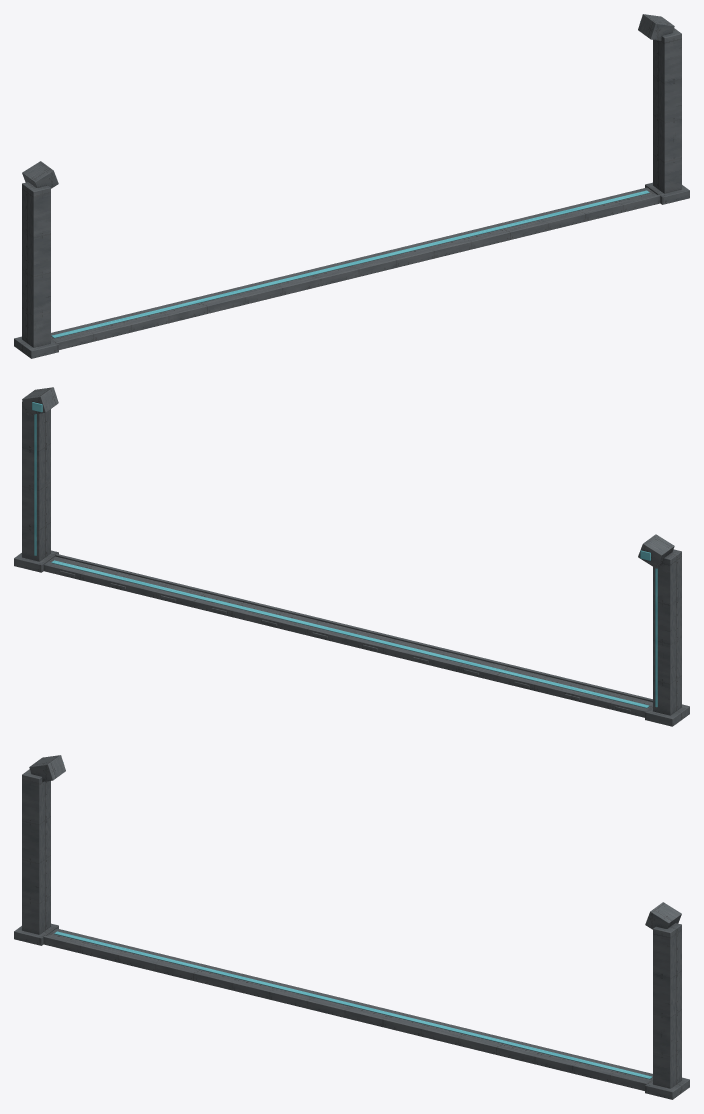
Rendered from base_holo_screen_frame.glb.
The picture shows the model from 3 angles, top to bottom: view 1: azimuth 30°, elevation 25°; view 2: azimuth 150°, elevation 25°; view 3: azimuth 330°, elevation 25°; orthographic projection.
Parts seen in each view (by area): view 1: base_holo_screen_frame; view 2: base_holo_screen_frame; view 3: base_holo_screen_frame.
Boxes of the visible parts, <box> form: base_holo_screen_frame: <box>14,14,689,358</box>; base_holo_screen_frame: <box>14,387,689,726</box>; base_holo_screen_frame: <box>14,755,689,1099</box>.
Bounding box in the file's own units: 26.1 × 6.71 × 1.35.
2 materials, 2 textured.
